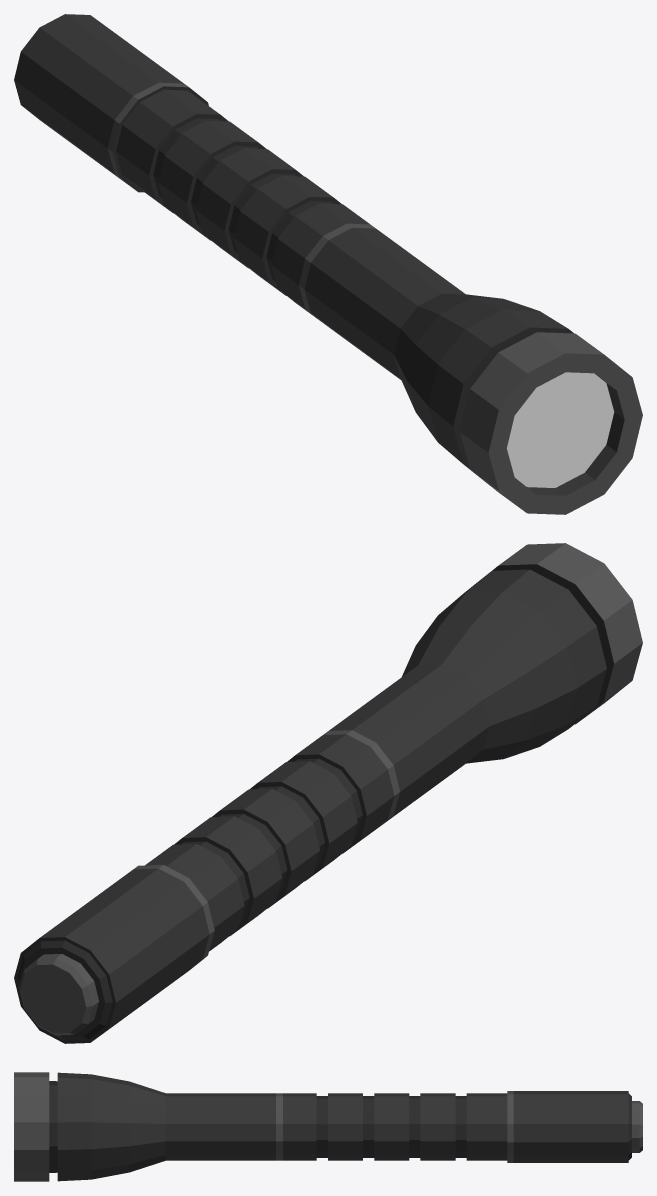
File: mesh_flashlight.fbx
The picture shows the model from 3 angles, top to bottom: view 1: azimuth 30°, elevation 25°; view 2: azimuth 150°, elevation 25°; view 3: azimuth 270°, elevation 25°; orthographic projection. The views are drawn at different scales.
Visible parts, largest first — view 1: mesh_flashlight; view 2: mesh_flashlight; view 3: mesh_flashlight.
Part boxes in pixels (x1=…): mesh_flashlight: x1=14, y1=14, x2=642, y2=514; mesh_flashlight: x1=14, y1=543, x2=642, y2=1043; mesh_flashlight: x1=14, y1=1072, x2=642, y2=1181.
Size of the model in its own units: 0.0966 by 0.0966 by 0.555.
